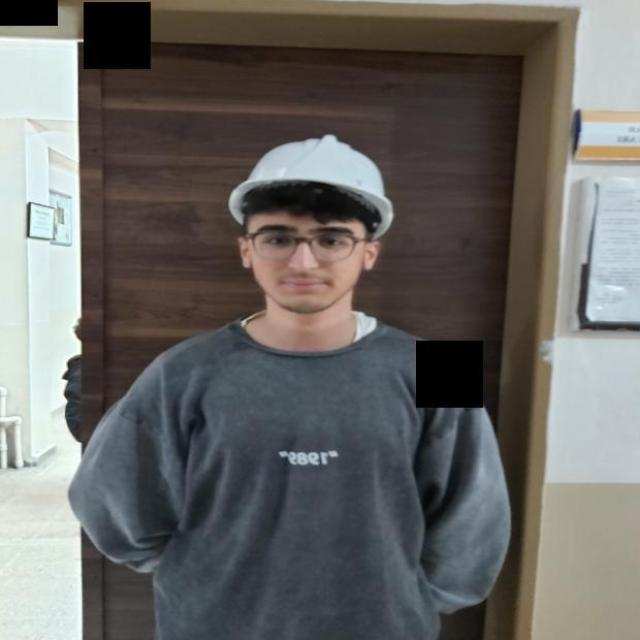helmet: (230, 133, 396, 241)
